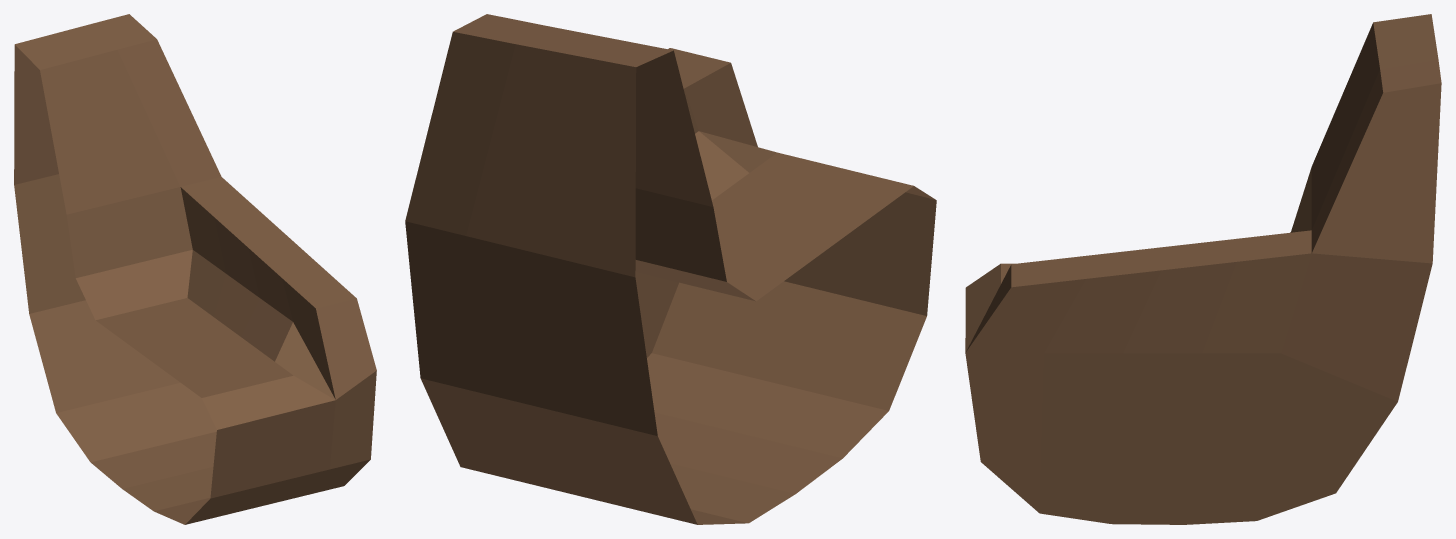
The model's file is armchair.gltf.
3 renders of one model, left to right at view 1: azimuth 30°, elevation 25°; view 2: azimuth 150°, elevation 25°; view 3: azimuth 270°, elevation 25°, orthographic. The views are drawn at different scales.
Visible parts, largest first — view 1: Cube; view 2: Cube; view 3: Cube.
Part boxes in pixels (x1,y1,x2,y2): Cube: (14,14,376,524); Cube: (405,14,936,524); Cube: (965,14,1441,524).
Bounding box in the file's own units: 0.3571 × 0.7784 × 0.7975.
Materials: 1 (1 with a texture image).
